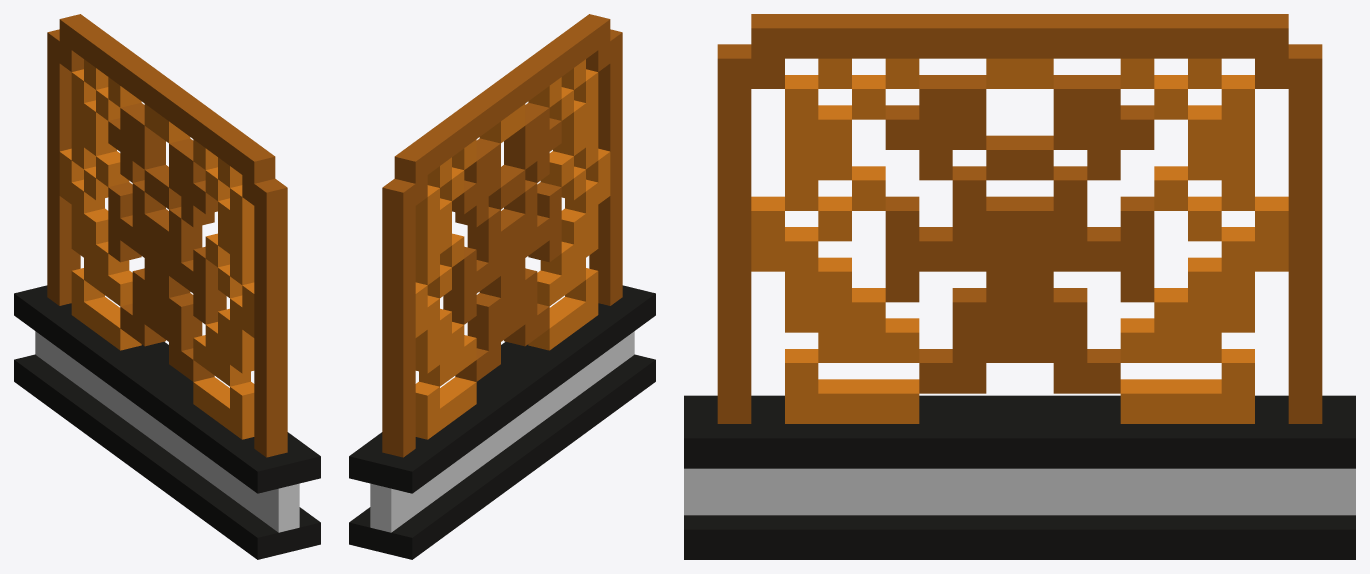
The model's file is env_11.obj.
3 renders of one model, left to right at view 1: azimuth 30°, elevation 25°; view 2: azimuth 150°, elevation 25°; view 3: azimuth 270°, elevation 25°, orthographic. The views are drawn at different scales.
Bounding box in the file's own units: 0.3 × 1.7 × 2.
1 material, 1 textured.
